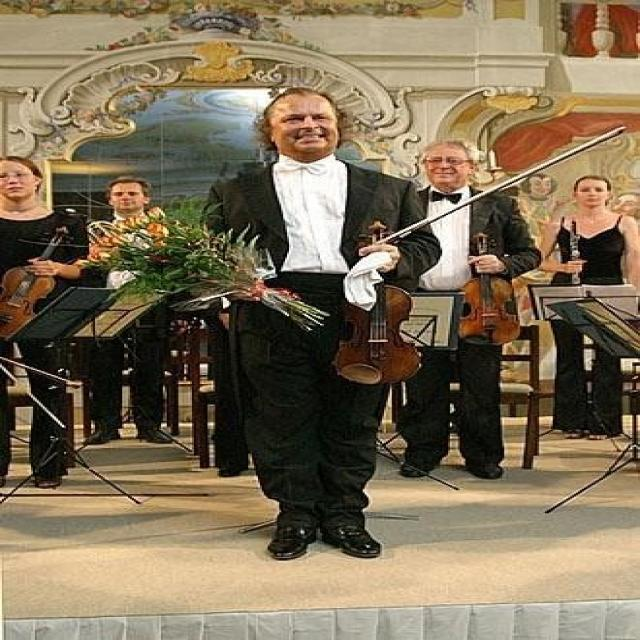clarinet: (568, 218, 583, 287)
violin: (331, 218, 425, 386), (0, 223, 74, 338), (454, 233, 526, 346)
